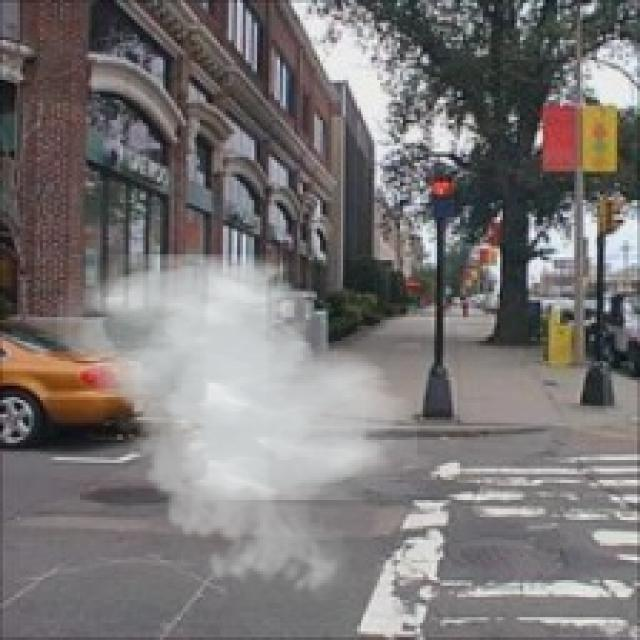smoke: (57, 254, 417, 603)
